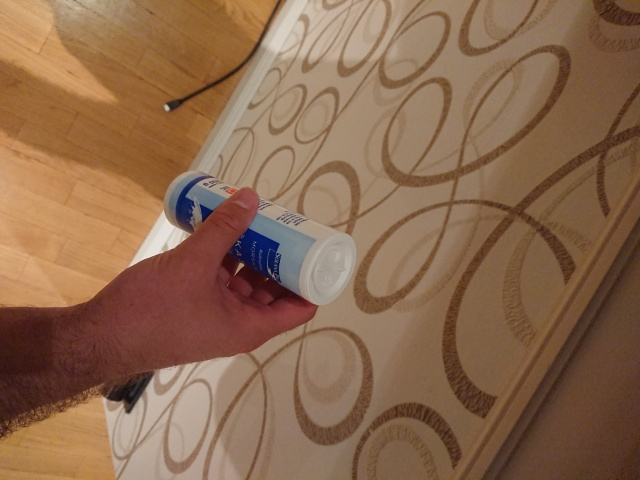Solana Pag Fine Sea Salt 250g: (160, 166, 360, 310)
